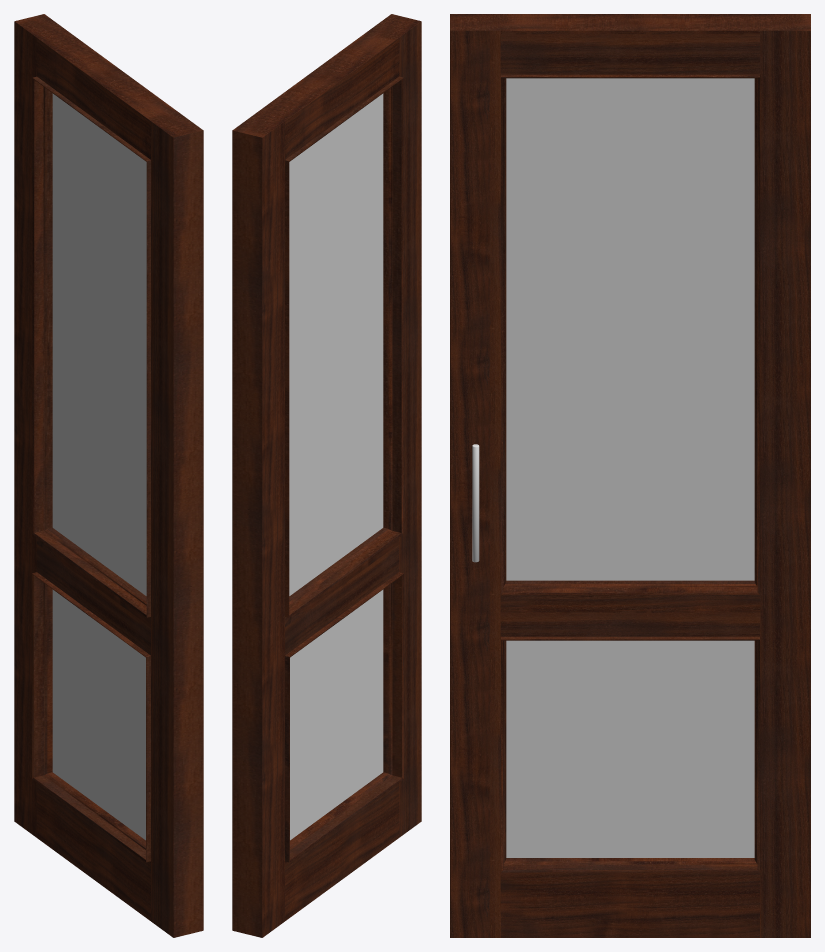
File: DoorRight.fbx
The picture shows the model from 3 angles, left to right: view 1: azimuth 30°, elevation 25°; view 2: azimuth 150°, elevation 25°; view 3: azimuth 270°, elevation 25°; orthographic projection. The views are drawn at different scales.
Visible parts, largest first — view 1: Wood Glass Double Door.002; view 2: Wood Glass Double Door.002; view 3: Wood Glass Double Door.002.
Boxes of the visible parts, bbox=[...] form: Wood Glass Double Door.002: bbox=[14, 14, 203, 937]; Wood Glass Double Door.002: bbox=[232, 14, 421, 937]; Wood Glass Double Door.002: bbox=[450, 14, 810, 937].
Bounding box in the file's own units: 20.93 × 397 × 143.
